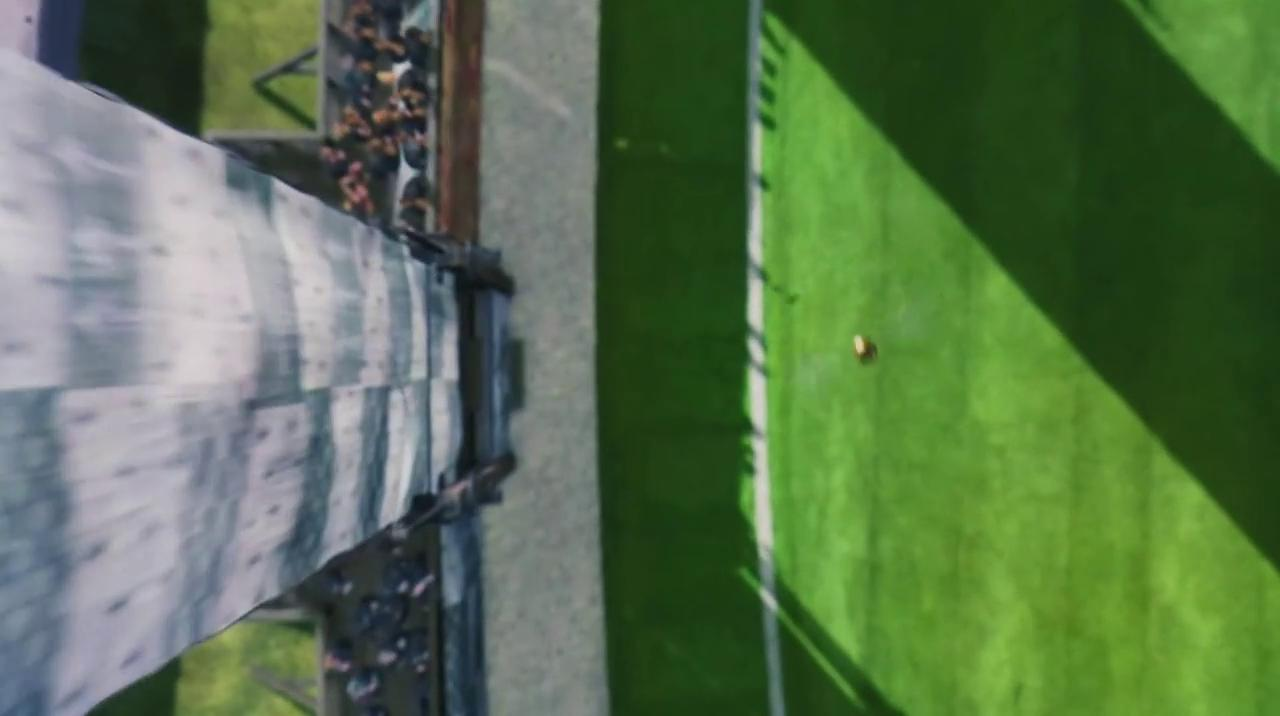snitch: (850, 334, 877, 367)
